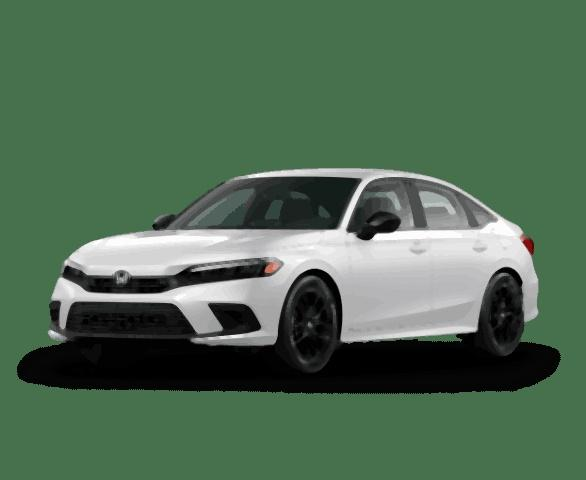Car hood: (65, 225, 332, 276)
Fender - -F-L-: (285, 231, 350, 349)
Fender - -R-L-: (475, 206, 531, 314)
Front bumper: (45, 276, 287, 349)
Headlight - -L-: (176, 253, 283, 291)
Headlight - -R-: (57, 258, 86, 288)
Passenger-s door - -F-L-: (335, 161, 433, 355)
Passenger-s door - -R-L-: (407, 161, 491, 355)
Rear bumper: (519, 275, 543, 327)
Rear light - -L-: (516, 230, 536, 260)
Side bumper - -L-: (342, 306, 481, 357)
Side mirror - -L-: (357, 209, 401, 243)
